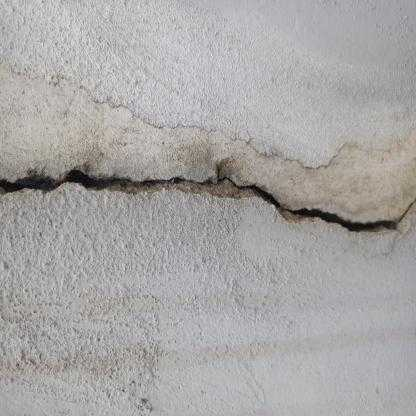crack: (0, 168, 416, 234)
